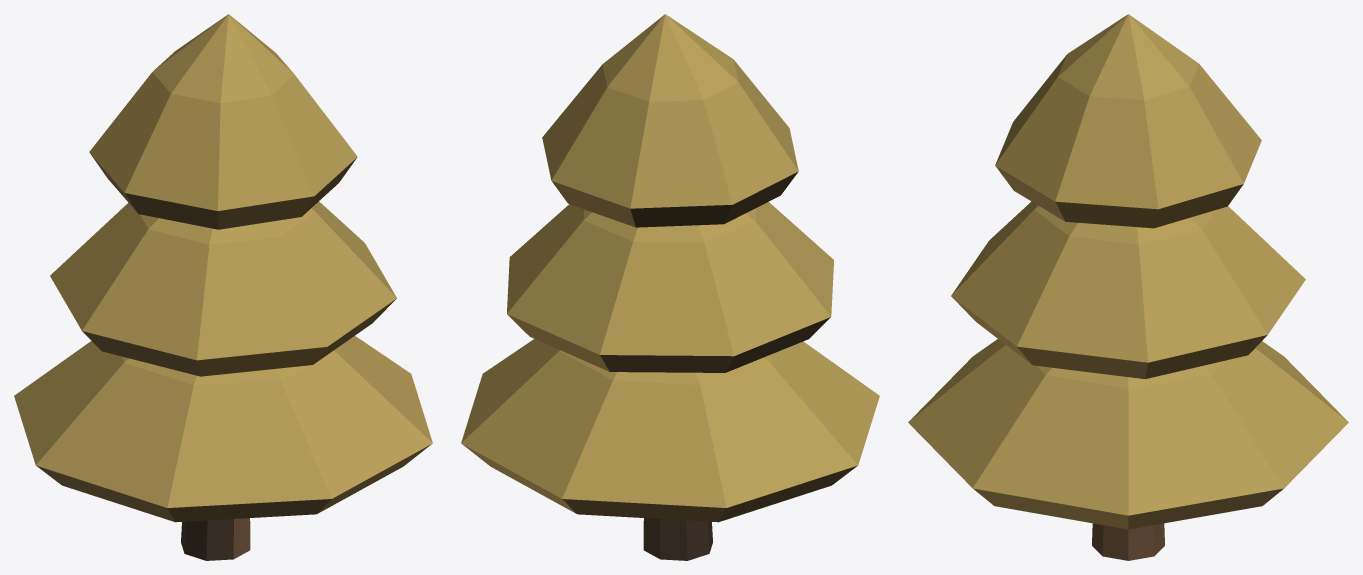
Rendered from TW_TREE_TIERED_WIDE_A_LOD0.glb.
The picture shows the model from 3 angles, left to right: view 1: azimuth 30°, elevation 25°; view 2: azimuth 150°, elevation 25°; view 3: azimuth 270°, elevation 25°; orthographic projection.
Visible parts, largest first — view 1: TW_TREE_TIERED_WIDE_A_LOD0; view 2: TW_TREE_TIERED_WIDE_A_LOD0; view 3: TW_TREE_TIERED_WIDE_A_LOD0.
Boxes of the visible parts, bbox=[...] form: TW_TREE_TIERED_WIDE_A_LOD0: bbox=[14, 14, 432, 560]; TW_TREE_TIERED_WIDE_A_LOD0: bbox=[461, 14, 879, 560]; TW_TREE_TIERED_WIDE_A_LOD0: bbox=[908, 14, 1348, 560].
Size of the model in its own units: 2.6 by 3.5 by 2.6.
Materials: 1 (1 with a texture image).
